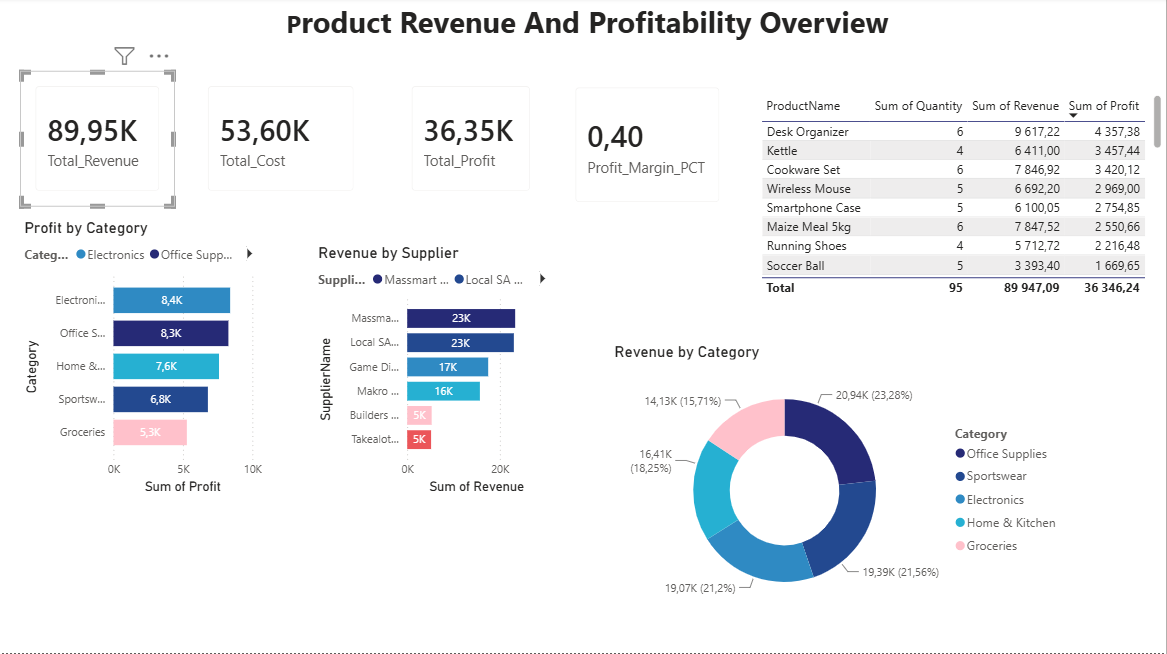

The dashboard page shown, as its layout file describes it:
{"tool":"powerbi","page":{"name":"Page 1","canvas":[1280,720],"ordinal":0},"visuals":[{"type":"textbox","box":[9.6,0,1270.7,61.7],"z":0},{"type":"cardVisual","fields":{"Data":["ProductsSales.Total_Revenue"]},"box":[22,81,170.2,149.6],"z":1},{"type":"cardVisual","fields":{"Data":["ProductsSales.Total_Cost"]},"box":[211.3,81,194.9,149.6],"z":2},{"type":"cardVisual","fields":{"Data":["ProductsSales.Total_Profit"]},"box":[435,81,164.7,149.6],"z":3},{"type":"barChart","title":"Profit by Category","fields":{"Category":["ProductsSales.Category"],"Y":["Sum(ProductsSales.Profit)"],"Series":["ProductsSales.Category"]},"box":[22,242.9,270.3,307.4],"z":4},{"type":"barChart","title":" Revenue by Supplier","fields":{"Category":["ProductsSales.SupplierName"],"Y":["Sum(ProductsSales.Revenue)"],"Series":["ProductsSales.SupplierName"]},"box":[344.4,270.3,270.3,279.9],"z":5},{"type":"tableEx","fields":{"Values":["ProductsSales.ProductName","Sum(ProductsSales.Quantity)","Sum(ProductsSales.Revenue)","Sum(ProductsSales.Profit)"]},"box":[830.2,102.9,450.1,230.5],"z":6},{"type":"cardVisual","fields":{"Data":["ProductsSales.Profit_Margin_PCT"]},"box":[614.8,82.3,192.1,160.5],"z":7},{"type":"donutChart","title":"Revenue by Category","fields":{"Category":["ProductsSales.Category"],"Y":["Sum(ProductsSales.Revenue)"]},"box":[669.6,378.7,503.6,307.4],"z":8}]}

Visuals, with their boxes in screenshot pixels (x1, y1, x2, y2), scaled from the page's 1280x720 canvas onto the 1167x654 screenshot:
textbox: {"left": 9, "top": 0, "right": 1166, "bottom": 56}
cardVisual - ProductsSales.Total_Revenue: {"left": 20, "top": 74, "right": 175, "bottom": 209}
cardVisual - ProductsSales.Total_Cost: {"left": 193, "top": 74, "right": 370, "bottom": 209}
cardVisual - ProductsSales.Total_Profit: {"left": 397, "top": 74, "right": 547, "bottom": 209}
"Profit by Category" barChart: {"left": 20, "top": 221, "right": 266, "bottom": 500}
" Revenue by Supplier" barChart: {"left": 314, "top": 246, "right": 560, "bottom": 500}
tableEx - ProductsSales.ProductName x Sum(ProductsSales.Quantity): {"left": 757, "top": 93, "right": 1166, "bottom": 303}
cardVisual - ProductsSales.Profit_Margin_PCT: {"left": 561, "top": 75, "right": 736, "bottom": 221}
"Revenue by Category" donutChart: {"left": 610, "top": 344, "right": 1070, "bottom": 623}
